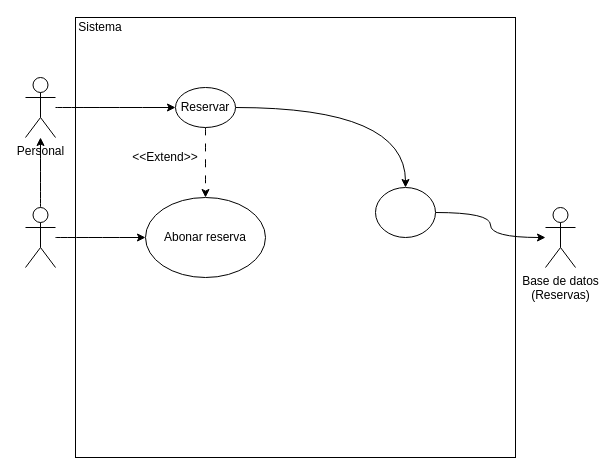
This 616x475 diagram has some shape labels left out. Each missing label, with the centre of its shape:
"Guardar reserva" belongs at point 405,212.
"Usuario" belongs at point 40,237.
